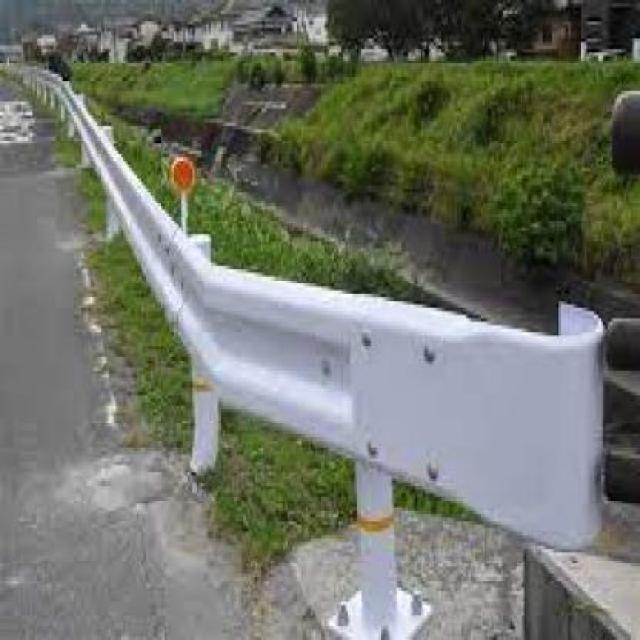Guard rail: (31, 60, 611, 635)
